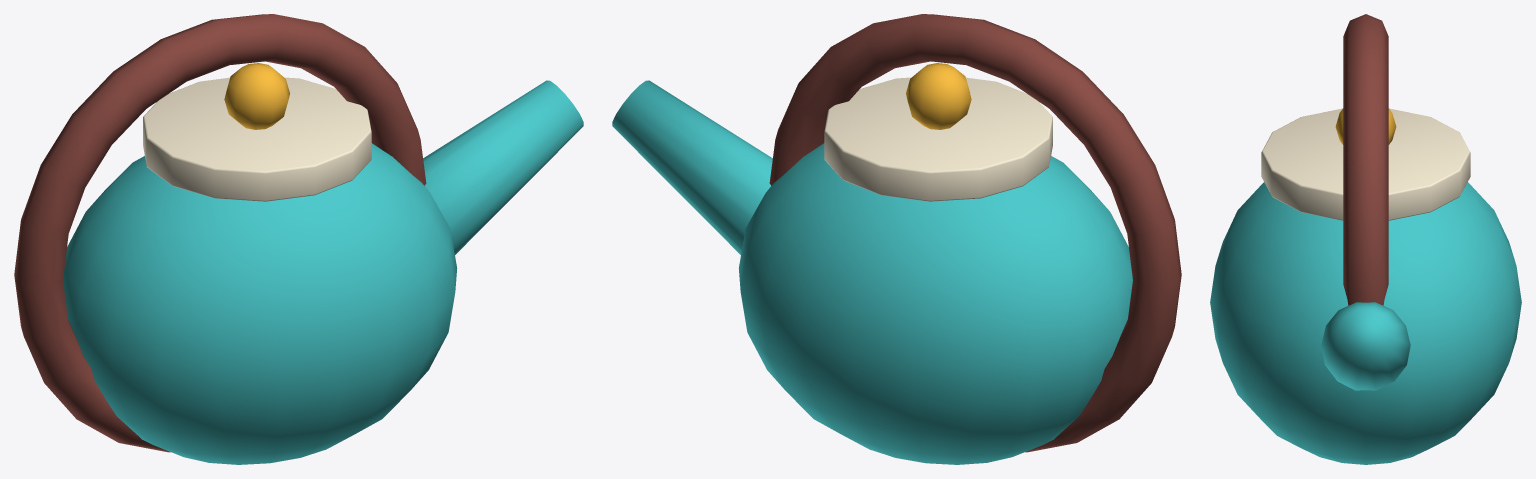
File: r036_castle_kitchen_kettle_kettle.glb
3 views of the same model, side by side, from view 1: azimuth 30°, elevation 25°; view 2: azimuth 150°, elevation 25°; view 3: azimuth 270°, elevation 25° (orthographic). The views are drawn at different scales.
Visible parts, largest first — view 1: r036_castle_kitchen_kettle_kettle.001; view 2: r036_castle_kitchen_kettle_kettle.001; view 3: r036_castle_kitchen_kettle_kettle.001.
Boxes of the visible parts, x1,y1,x2,y2 form: r036_castle_kitchen_kettle_kettle.001: (14, 14, 583, 464); r036_castle_kitchen_kettle_kettle.001: (612, 14, 1181, 464); r036_castle_kitchen_kettle_kettle.001: (1210, 14, 1521, 464).
Bounding box in the file's own units: 3.07 × 2.29 × 1.64.
